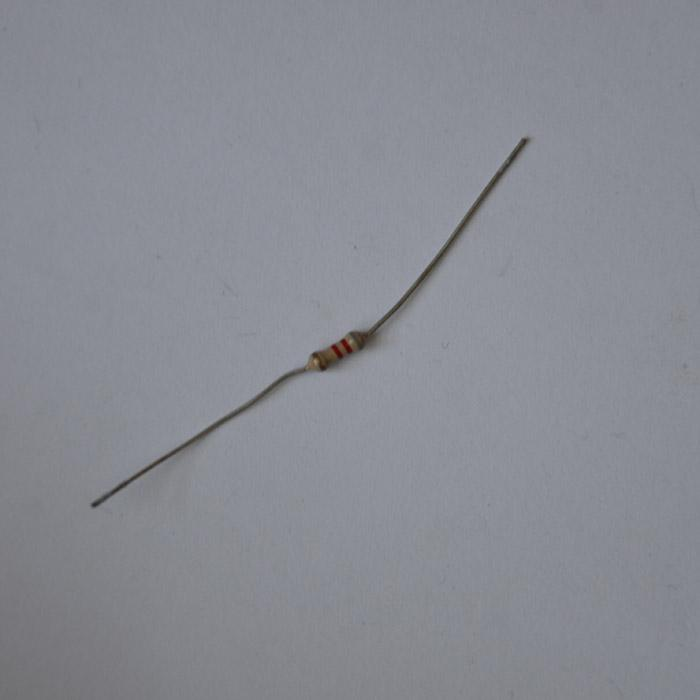resistor: (305, 329, 367, 372)
